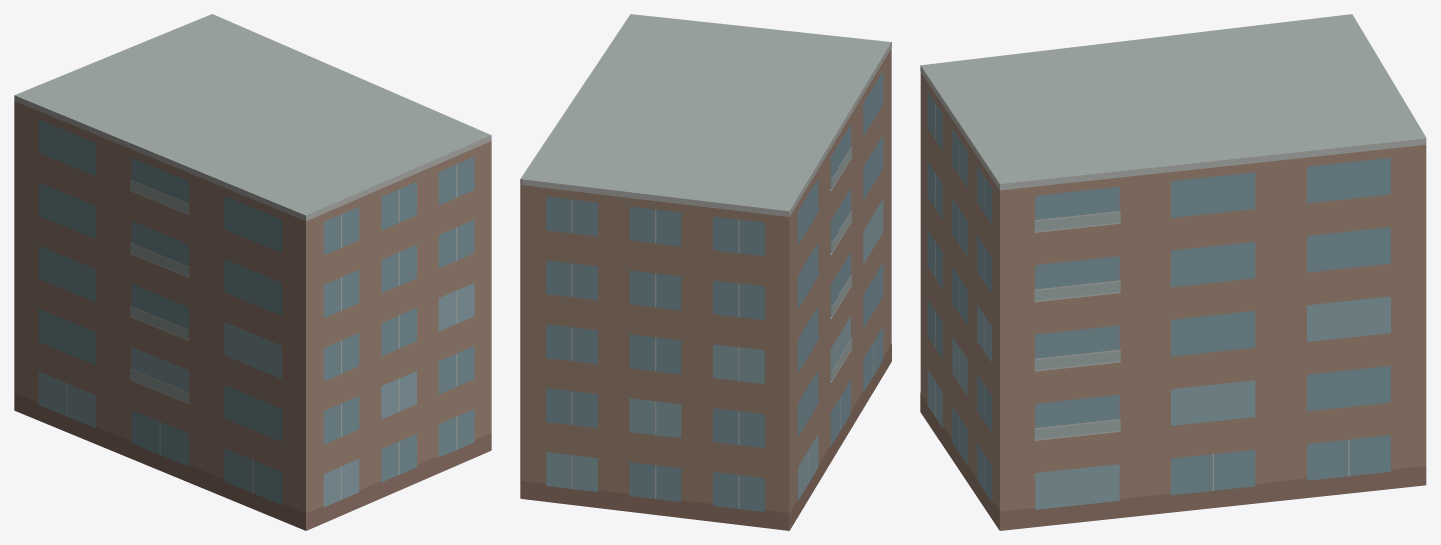
File: survey-upis-32651560.glb
The picture shows the model from 3 angles, left to right: view 1: azimuth 30°, elevation 25°; view 2: azimuth 150°, elevation 25°; view 3: azimuth 270°, elevation 25°; orthographic projection. The views are drawn at different scales.
Visible parts, largest first — view 1: survey-upis-32651560.tmp; view 2: survey-upis-32651560.tmp; view 3: survey-upis-32651560.tmp.
Boxes of the visible parts, left/top/right/bottom form: survey-upis-32651560.tmp: left=14, top=14, right=491, bottom=530; survey-upis-32651560.tmp: left=520, top=14, right=891, bottom=530; survey-upis-32651560.tmp: left=920, top=14, right=1426, bottom=530.
Size of the model in its own units: 14.22 by 13.5 by 17.86.
